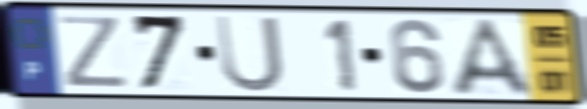1: (322, 17, 359, 94)
6: (386, 16, 446, 96)
7: (130, 12, 189, 92)
A: (448, 16, 539, 99)
U: (212, 12, 287, 95)
Z: (56, 13, 133, 90)
